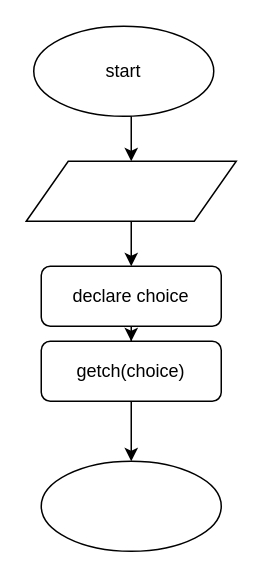
The diagram is 263 pixels wide and 578 high, and some of its shapes have lost their labels. Here are the shapes that lost their labels. From the top down, the box of each, then its label:
(25, 160, 236, 221): display enter number
(40, 460, 221, 551): Stop
